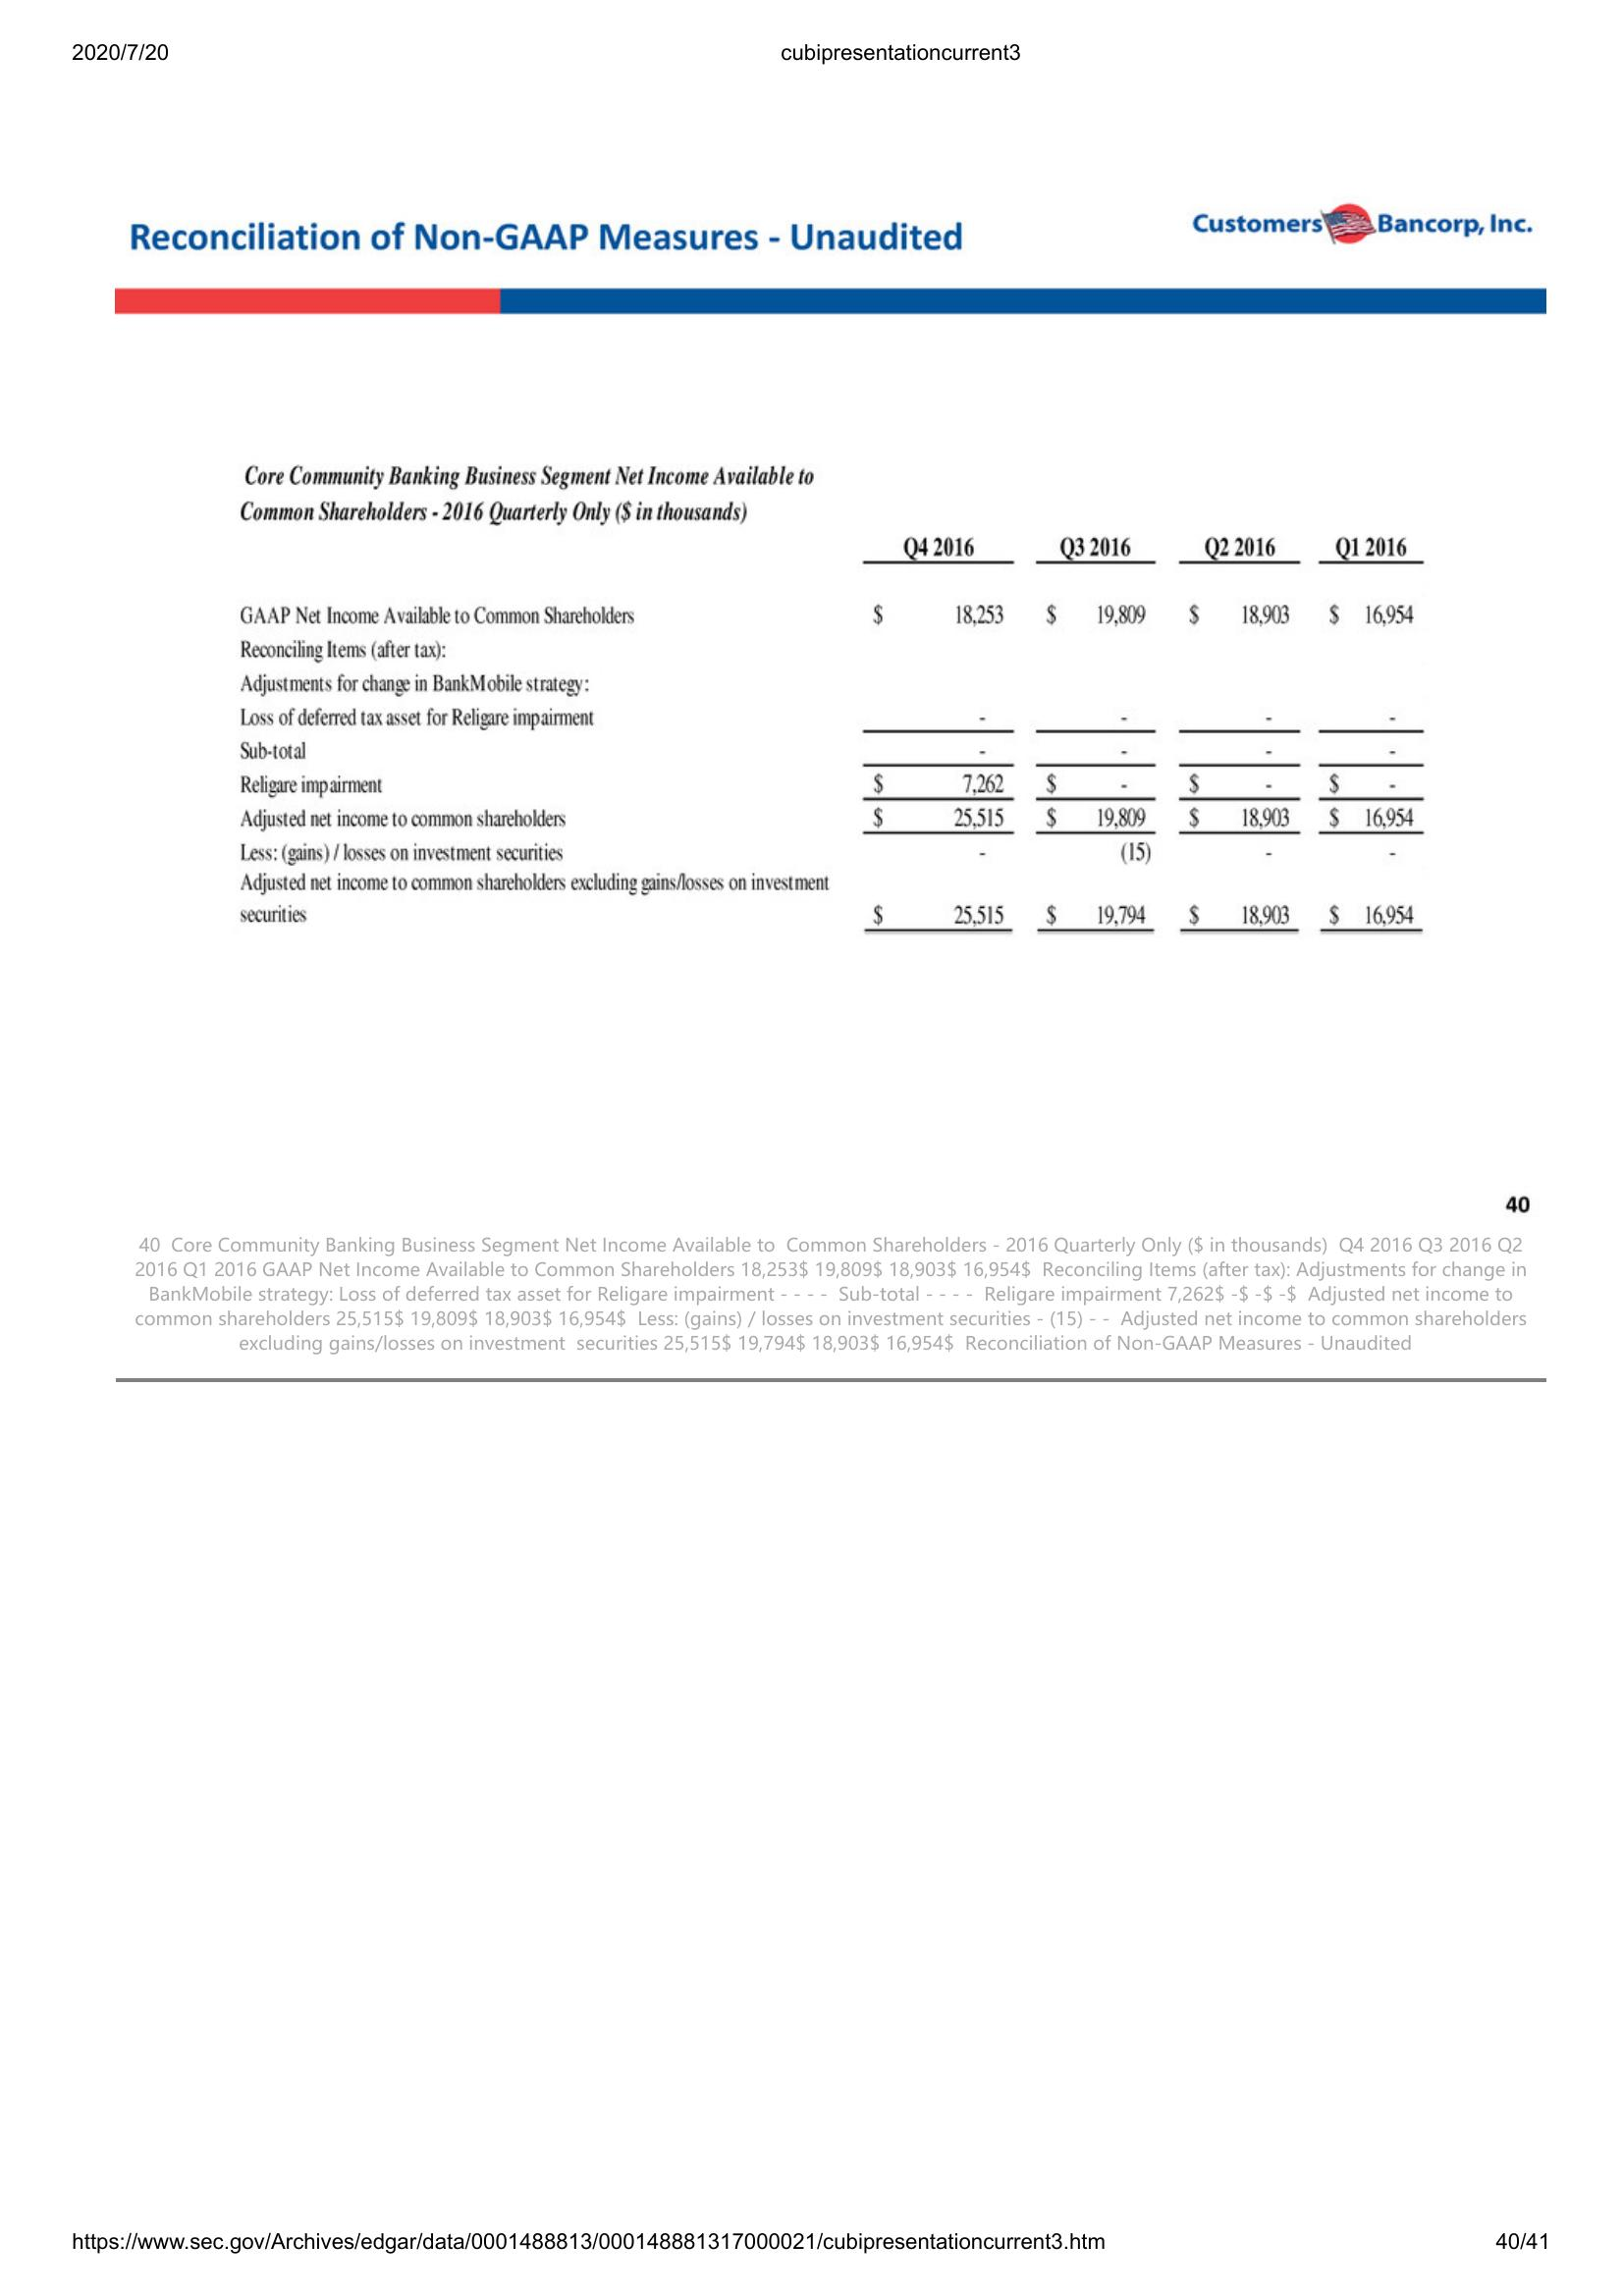table: (234, 462, 1430, 943)
